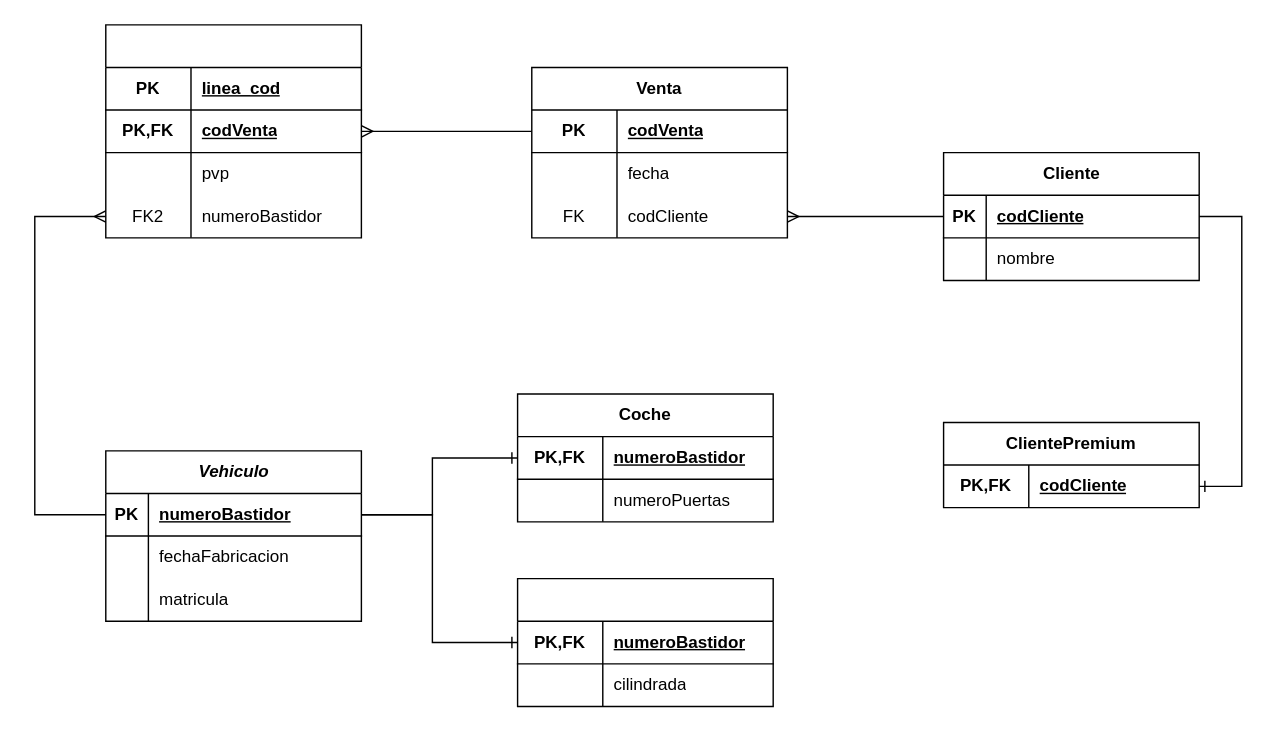
Image size: 1278x731. Some labels were removed from this diagram. Here are the shapes that lost their labels. From the top down, the box of each, then its label:
(104, 23, 361, 238): LineaDeVenta
(516, 577, 773, 706): Motocicleta
